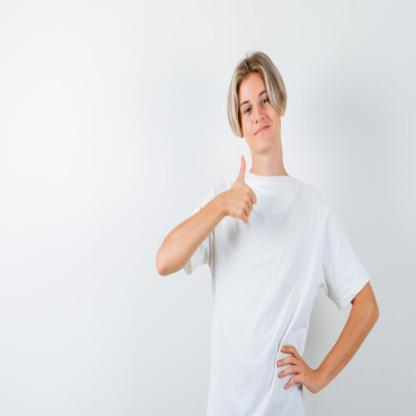thumb_up: (224, 154, 259, 226)
